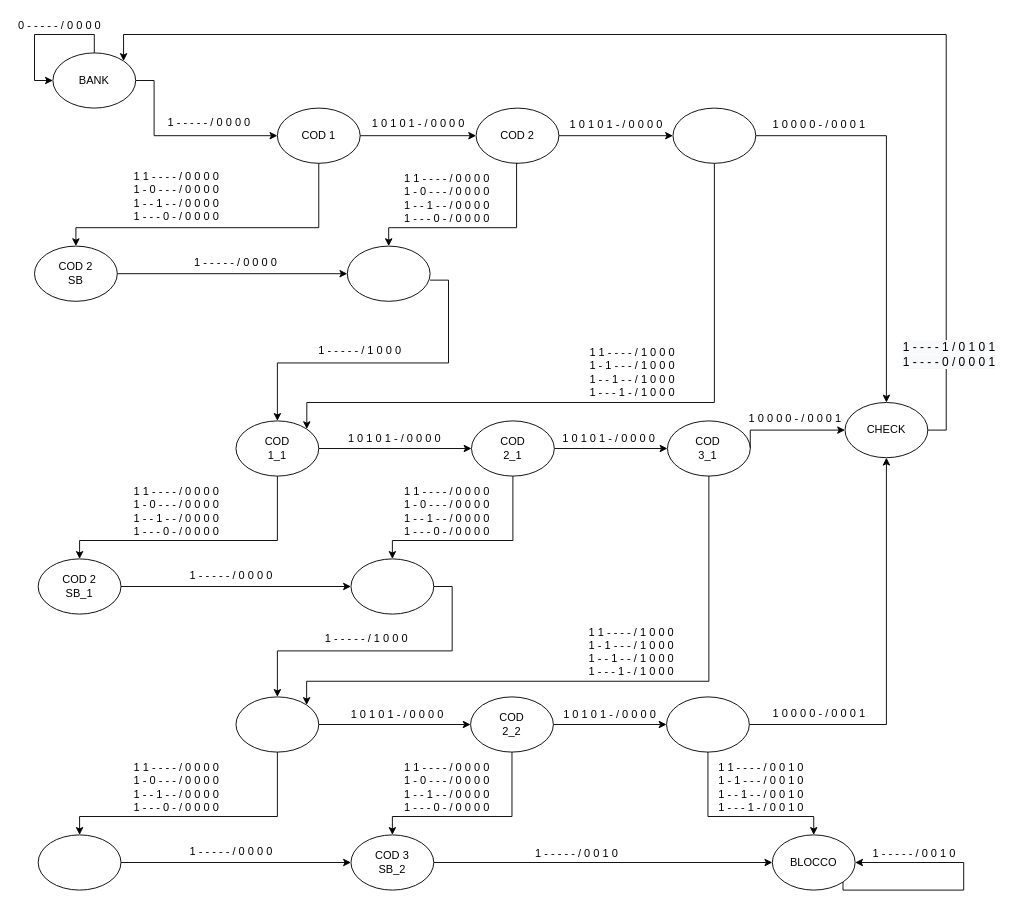
Some shapes in this 1010 by 914 pixel diagram are drawn without their labels. The centre of each missing label's shape, as x and y in pixels:
COD 1_2: (x=277, y=724)
COD 2 SB_2: (x=79, y=862)
COD 3: (x=714, y=135)
COD 3 SB: (x=388, y=273)
COD 3 SB_1: (x=392, y=586)
COD 3_2: (x=707, y=724)
